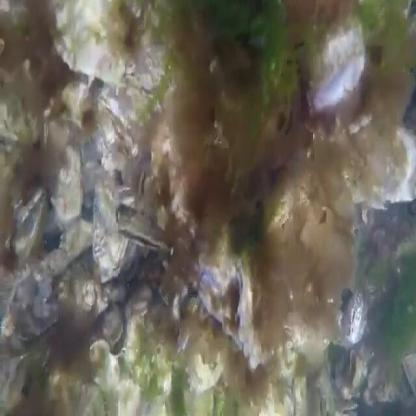3: (310, 18, 366, 108), (115, 204, 171, 253), (11, 189, 46, 260), (102, 303, 127, 354), (349, 353, 367, 388)
Oyster- Indeterminate: (237, 260, 254, 358), (403, 353, 416, 400), (139, 169, 157, 196), (334, 402, 361, 416), (132, 303, 149, 321)
Oyster-Closed: (333, 110, 416, 207), (44, 0, 142, 81), (195, 254, 243, 353), (93, 181, 129, 281), (59, 251, 107, 325), (40, 373, 107, 416), (53, 145, 83, 220), (264, 183, 294, 232), (89, 342, 119, 390), (256, 386, 297, 416), (185, 386, 213, 416), (345, 294, 363, 339)
